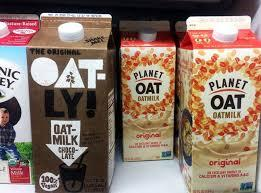cardboard: (27, 13, 114, 192), (176, 16, 260, 192), (120, 21, 175, 160), (0, 14, 39, 191)
